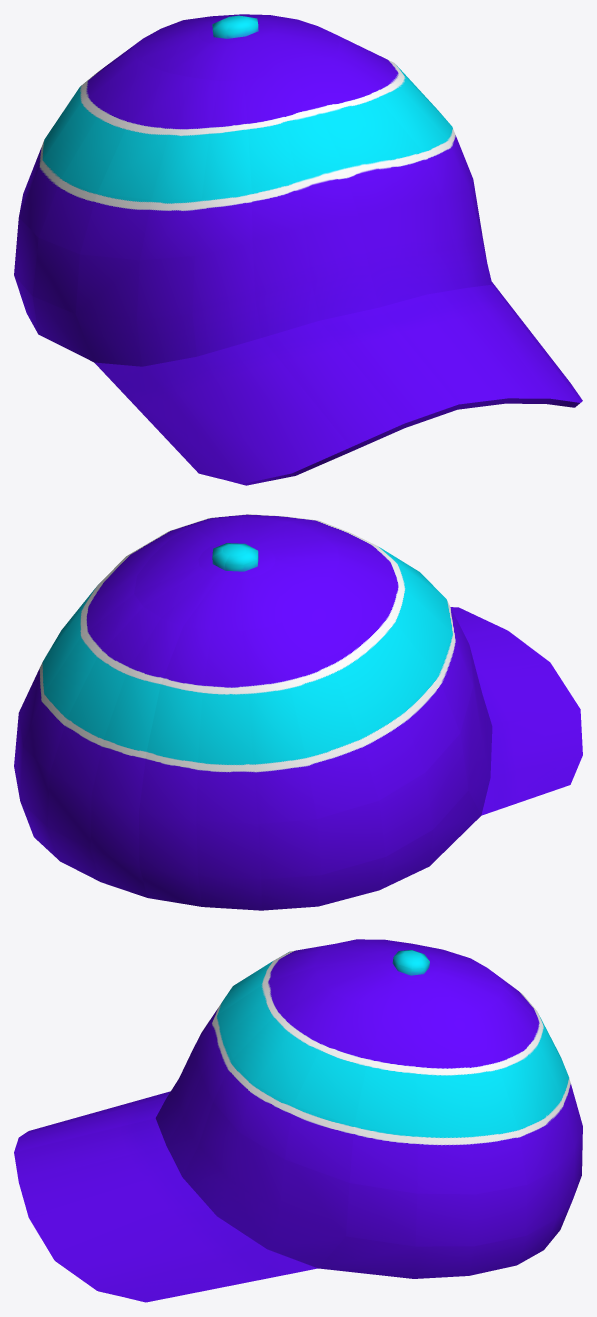
The model's file is cap.fbx.
The picture shows the model from 3 angles, top to bottom: view 1: azimuth 30°, elevation 25°; view 2: azimuth 150°, elevation 25°; view 3: azimuth 270°, elevation 25°; orthographic projection. The views are drawn at different scales.
Visible parts, largest first — view 1: cap_mesh; view 2: cap_mesh; view 3: cap_mesh.
Part boxes in pixels (x1=…): cap_mesh: x1=14, y1=14, x2=582, y2=485; cap_mesh: x1=14, y1=514, x2=582, y2=910; cap_mesh: x1=14, y1=939, x2=582, y2=1302.
Size of the model in its own units: 2.01 by 1.45 by 2.77.
